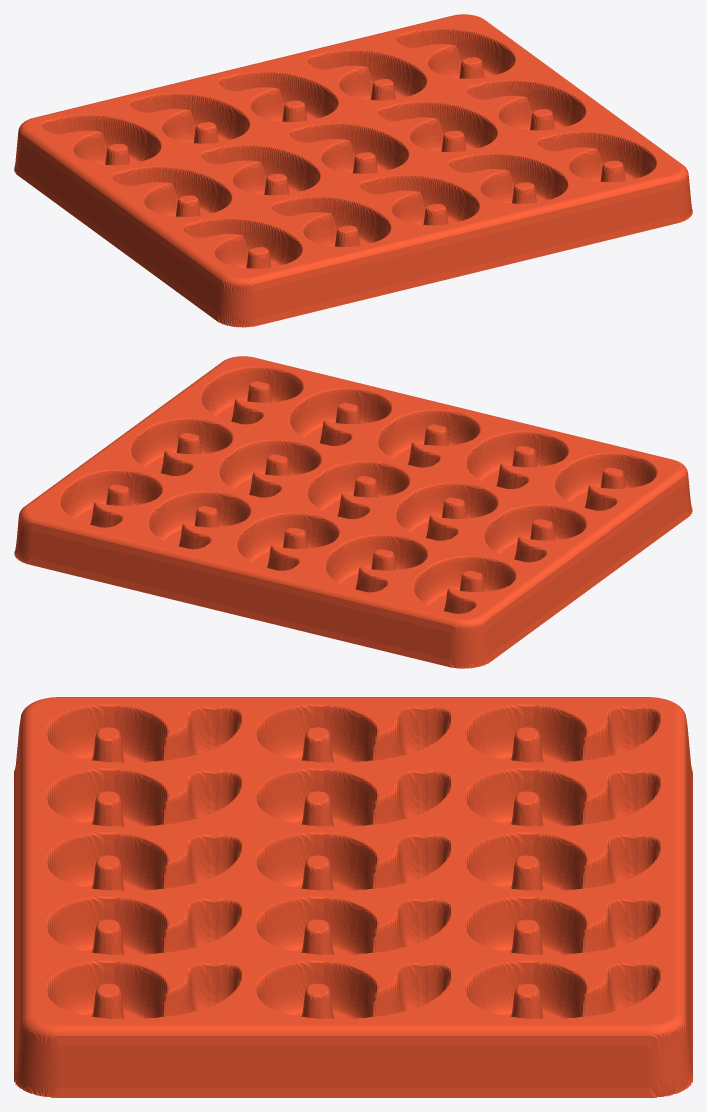
The model's file is mold.glb.
3 views of the same model, one above another, from view 1: azimuth 30°, elevation 25°; view 2: azimuth 150°, elevation 25°; view 3: azimuth 270°, elevation 25° (orthographic). The views are drawn at different scales.
Parts seen in each view (by area): view 1: geometry_0; view 2: geometry_0; view 3: geometry_0.
Part boxes in pixels (box(x1,y1,x2,y2)): geometry_0: box(14, 14, 692, 327); geometry_0: box(14, 356, 692, 668); geometry_0: box(14, 697, 692, 1097).
Size of the model in its own units: 0.1622 by 0.0145 by 0.1361.
